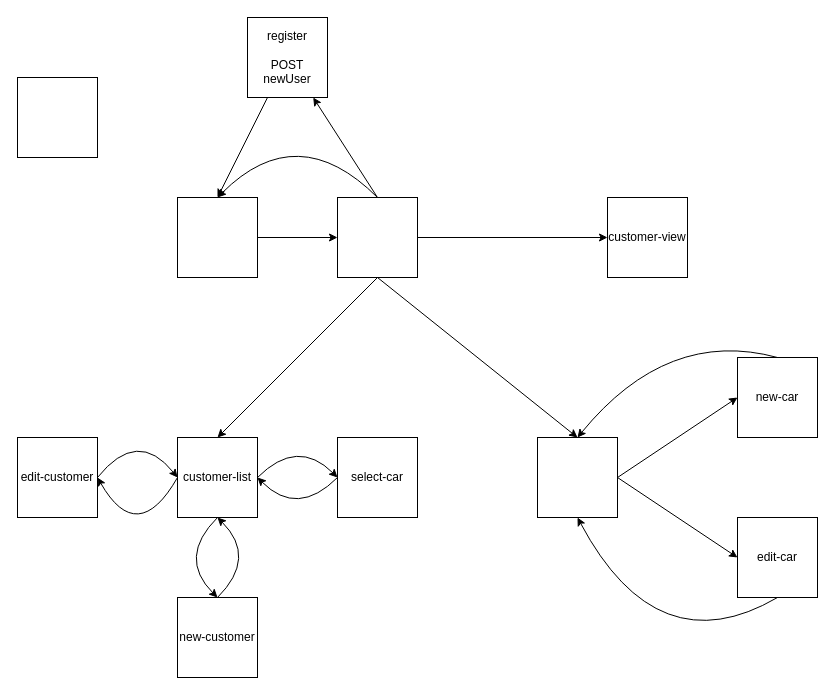
The diagram is 835 pixels wide and 695 high, and some of its shapes have lost their labels. Each missing label, with the box of its shape:
error-page: (16, 76, 98, 158)
homepage: (336, 196, 418, 278)
login: (176, 196, 258, 278)
view-car: (536, 436, 618, 518)
